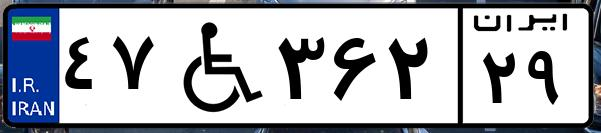2: (385, 28, 445, 110), (475, 38, 525, 113)
3: (270, 28, 330, 110)
4: (57, 26, 110, 100)
6: (330, 28, 385, 110)
7: (110, 28, 158, 98)
9: (525, 38, 570, 115)
ژ (معلولین و جانبازان): (158, 12, 270, 120)
